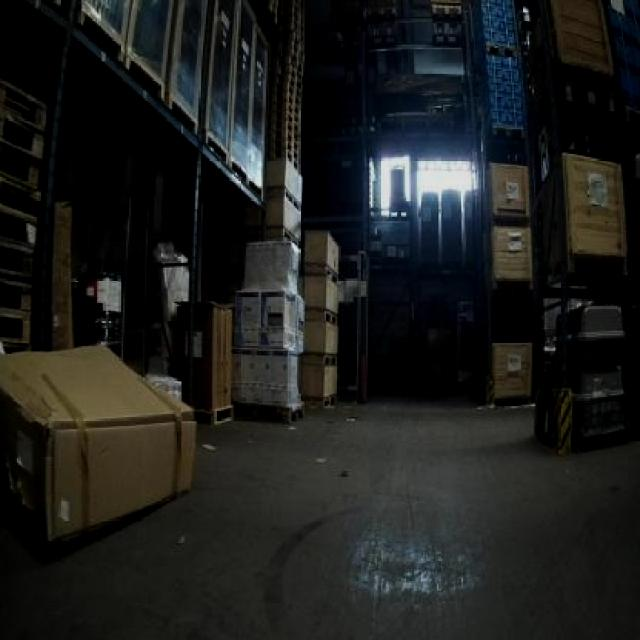floor: (0, 397, 637, 637)
pallets: (0, 345, 192, 537), (560, 151, 623, 255)
